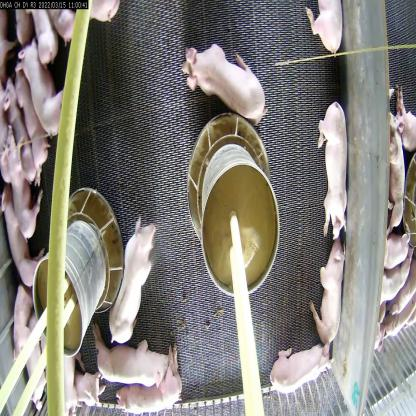Pig: (187, 35, 268, 136), (109, 221, 159, 342), (316, 99, 354, 247), (110, 342, 184, 415), (0, 184, 48, 290), (0, 128, 45, 234), (23, 46, 67, 144), (96, 333, 165, 390), (267, 340, 336, 396), (312, 245, 345, 356)
